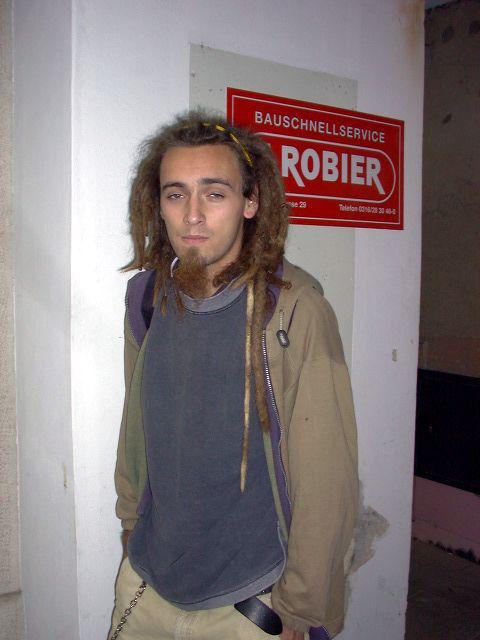Person: (104, 111, 365, 640)
